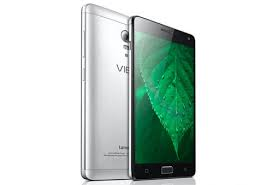lenovo: (78, 2, 197, 180), (125, 14, 198, 180)
